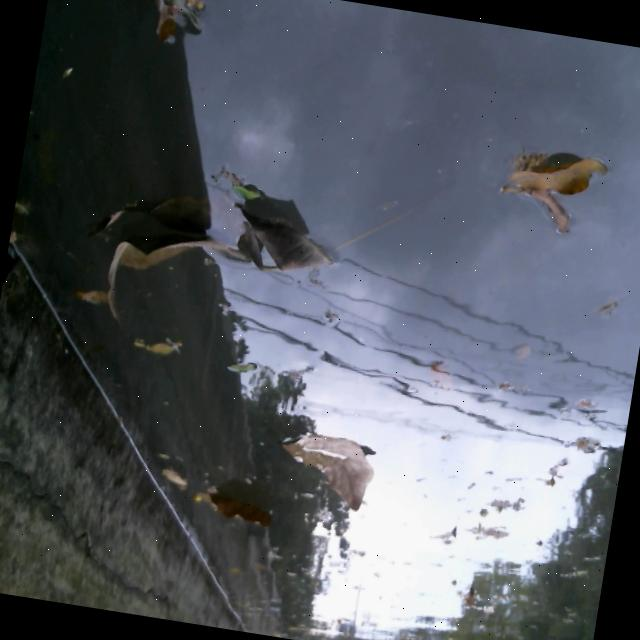Big-leaf: (84, 171, 228, 333), (218, 178, 348, 289), (262, 403, 384, 518), (494, 132, 613, 213), (189, 478, 284, 531)
Small-leaf: (136, 0, 214, 59), (104, 321, 184, 365), (508, 182, 566, 230), (146, 444, 192, 503), (499, 327, 545, 375), (217, 345, 266, 385), (458, 514, 514, 548), (424, 352, 462, 397), (561, 424, 603, 462), (536, 449, 570, 493)
